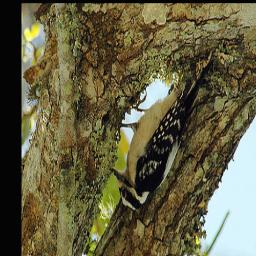Woodpecker: (109, 54, 216, 219)
